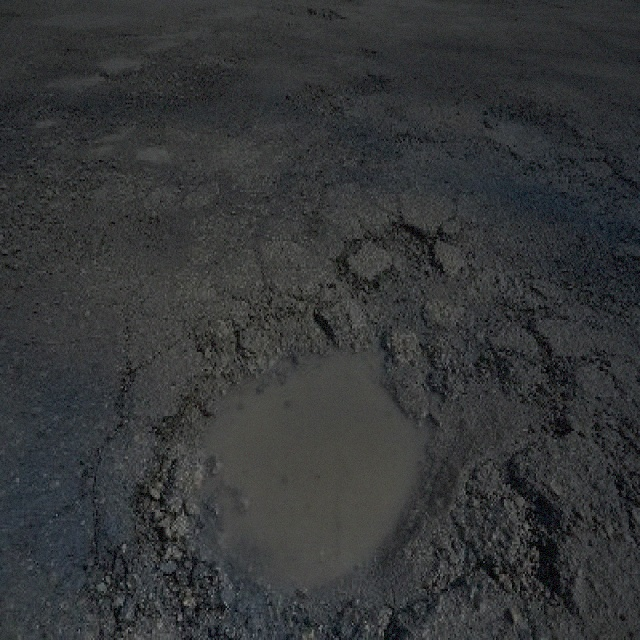pothole: (128, 282, 566, 636), (376, 215, 446, 278)
